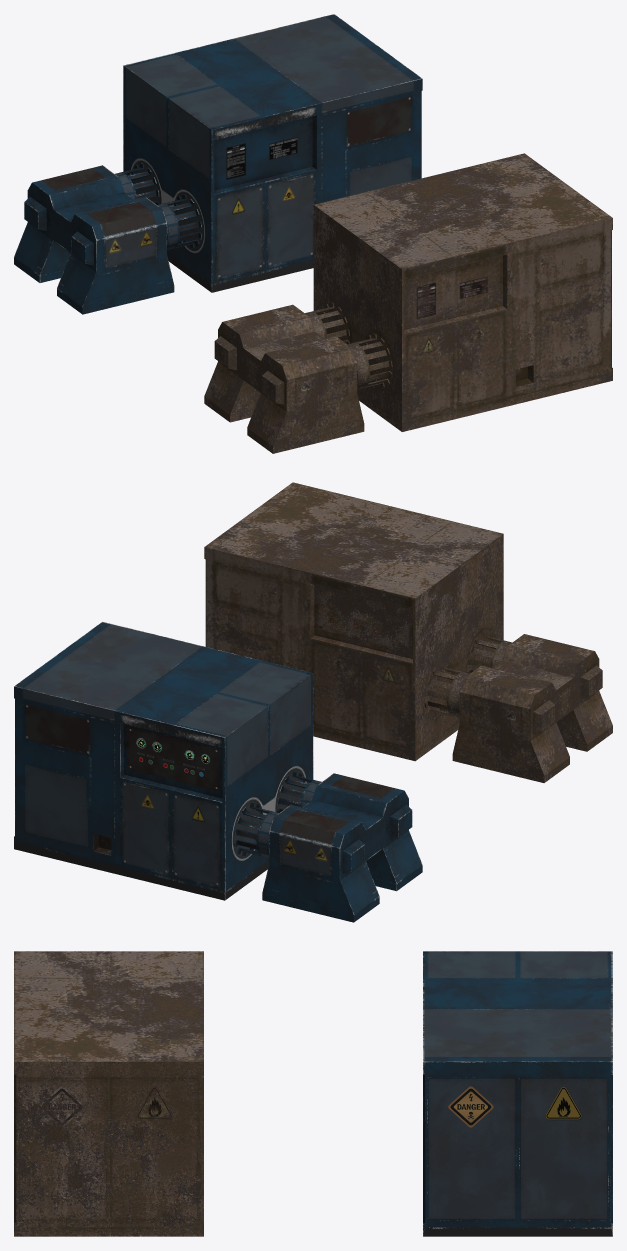
3 renders of one model, top to bottom at view 1: azimuth 30°, elevation 25°; view 2: azimuth 150°, elevation 25°; view 3: azimuth 270°, elevation 25°, orthographic. The views are drawn at different scales.
Parts seen in each view (by area): view 1: device29 rusted, device29; view 2: device29, device29 rusted; view 3: device29, device29 rusted.
Boxes of the visible parts, x1,y1,x2,y2 form: device29 rusted: (204, 153, 612, 453); device29: (14, 14, 422, 314); device29: (14, 621, 422, 922); device29 rusted: (204, 482, 612, 782); device29: (423, 951, 612, 1236); device29 rusted: (14, 951, 203, 1236).
Bounding box in the file's own units: 319 × 150 × 466.
2 materials, 2 textured.
